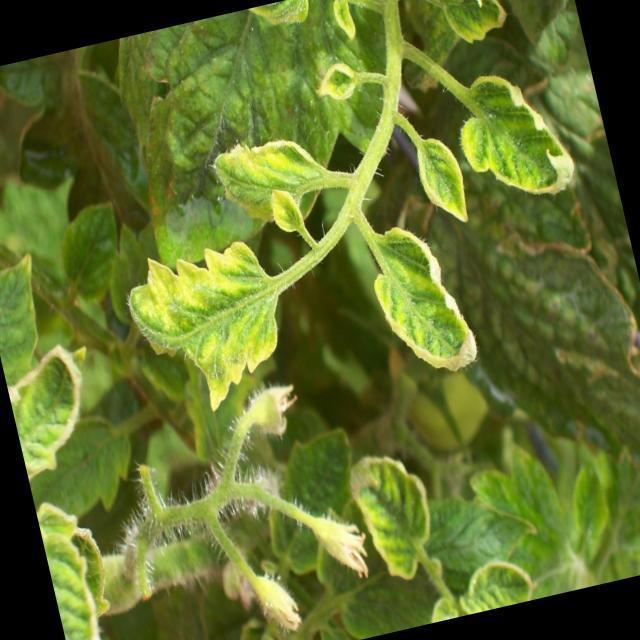Yellow Curl Virus: (110, 229, 304, 423), (444, 51, 594, 220), (360, 208, 492, 392), (343, 442, 442, 586), (208, 128, 335, 237), (1, 344, 101, 482), (40, 521, 109, 640), (408, 130, 482, 230), (453, 552, 543, 616), (431, 0, 514, 51), (310, 56, 366, 114)
